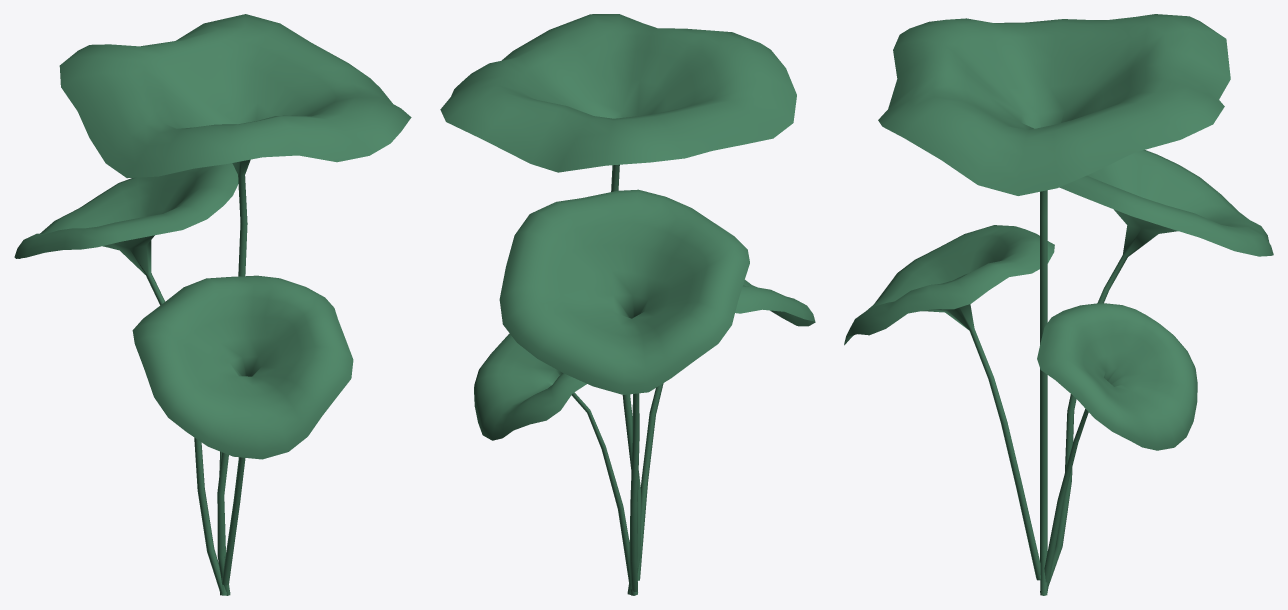
The model's file is Åkande-Plante-S00A.fbx.
3 views of the same model, side by side, from view 1: azimuth 30°, elevation 25°; view 2: azimuth 150°, elevation 25°; view 3: azimuth 270°, elevation 25° (orthographic). The views are drawn at different scales.
Visible parts, largest first — view 1: Åkande-Plante-S00A; view 2: Åkande-Plante-S00A; view 3: Åkande-Plante-S00A.
Part boxes in pixels (left/top/right/bottom): Åkande-Plante-S00A: left=14, top=14, right=411, bottom=595; Åkande-Plante-S00A: left=440, top=14, right=815, bottom=595; Åkande-Plante-S00A: left=844, top=14, right=1273, bottom=595.
Size of the model in its own units: 100 by 159 by 114.
